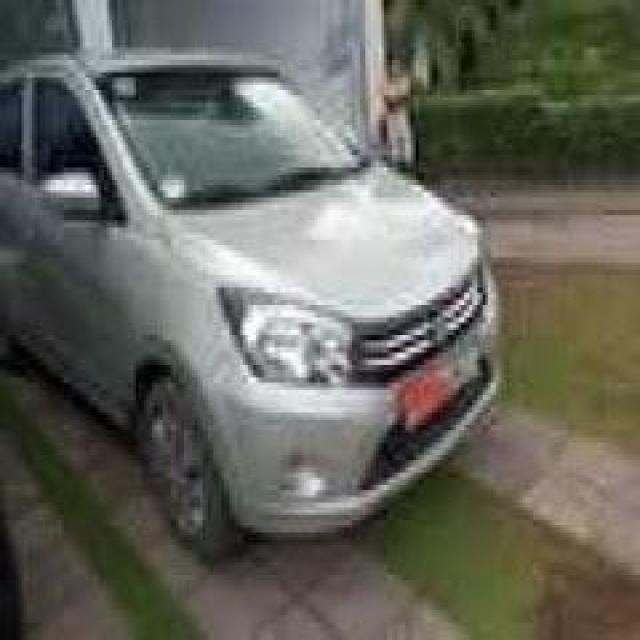car: (4, 21, 599, 589)
